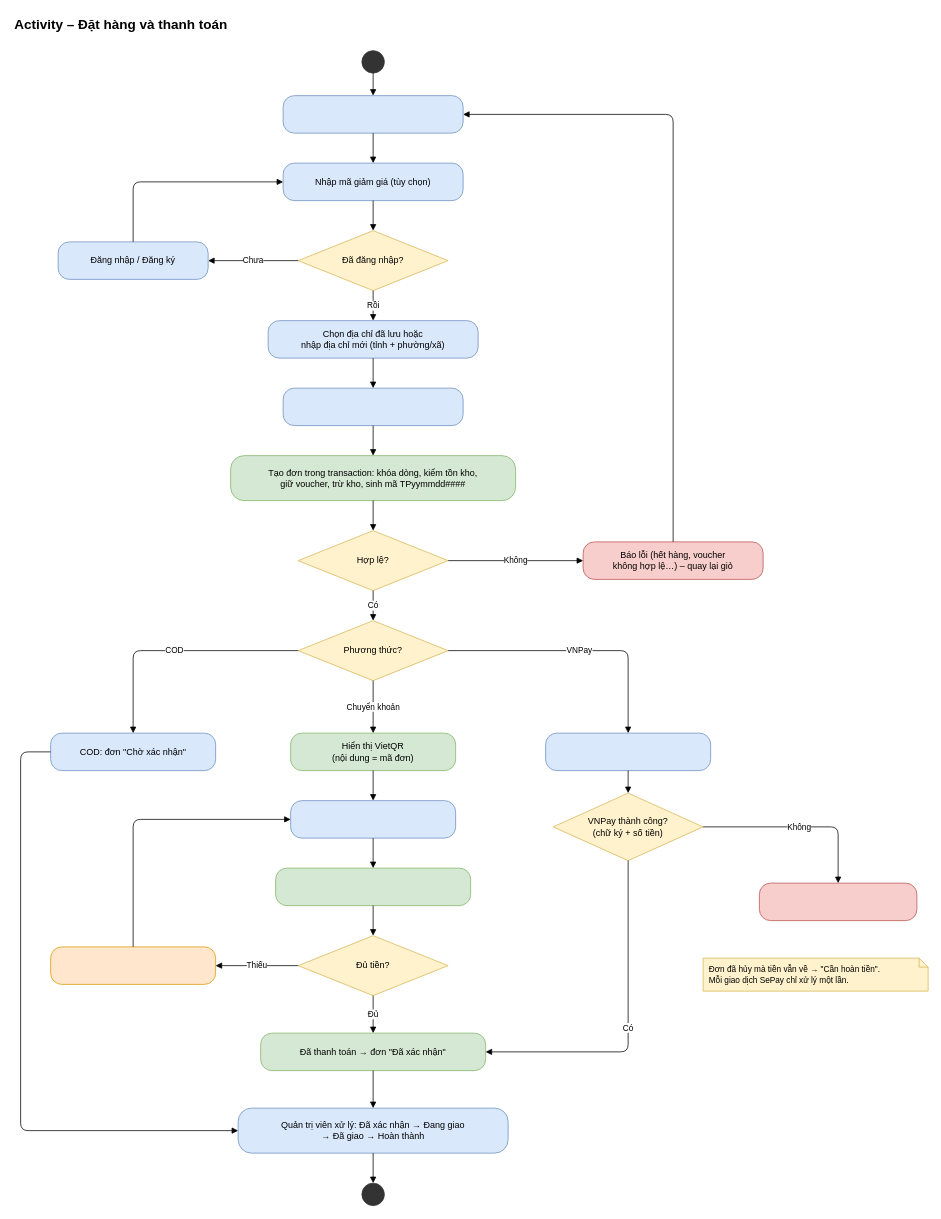
Some shapes in this 941 by 1219 pixel diagram are drawn without their labels. The shapes that lost their labels are listed below. From the top down, each one's box as (x1, y1, x2, y2) in pixels, then its label:
(282, 95, 463, 133): Thêm sản phẩm vào giỏ (giá, tồn kho lấy lại từ CSDL)
(282, 387, 463, 426): Chọn phương thức thanh toán & bấm Đặt hàng
(545, 732, 711, 771): Chuyển sang cổng VNPay
(290, 800, 456, 838): Khách chuyển khoản
(275, 867, 471, 906): SePay gửi webhook; đối chiếu mã đơn + số tiền
(759, 882, 917, 921): Thanh toán thất bại (có thể thanh toán lại)
(50, 946, 216, 984): Ghi nhận chuyển thiếu, chờ chuyển thêm
